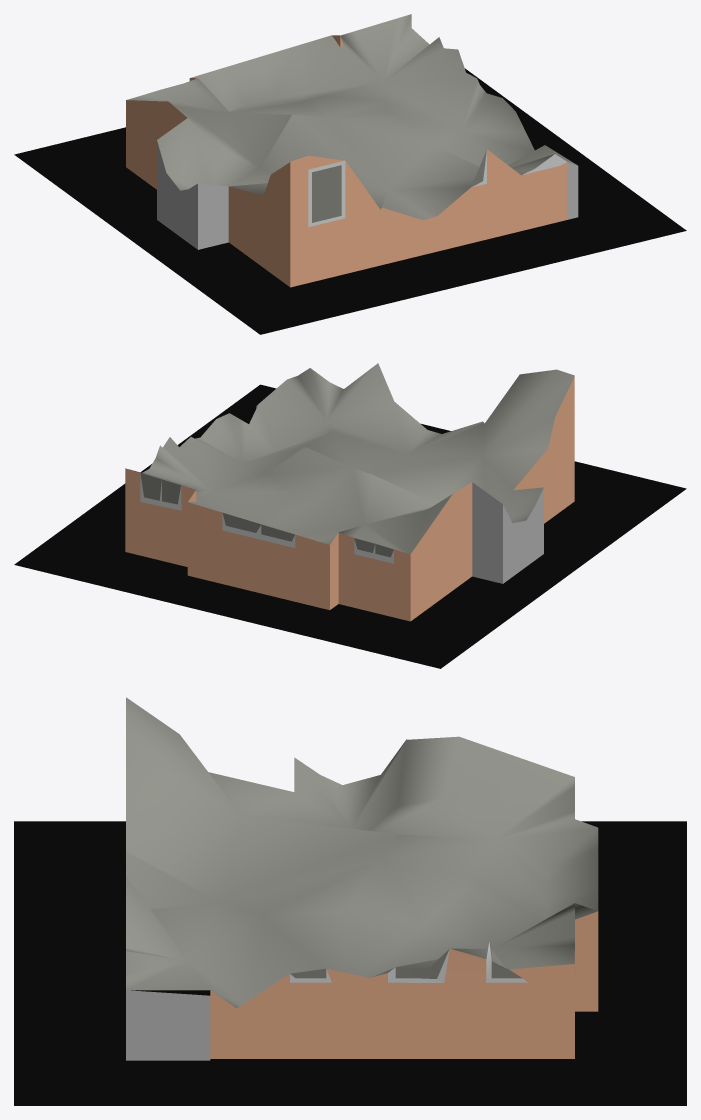
Rendered from Building_Destroyed.fbx.
3 renders of one model, top to bottom at view 1: azimuth 30°, elevation 25°; view 2: azimuth 150°, elevation 25°; view 3: azimuth 270°, elevation 25°, orthographic. The views are drawn at different scales.
Visible parts, largest first — view 1: Building_Destroyed; view 2: Building_Destroyed; view 3: Building_Destroyed.
Part boxes in pixels (bbox=[...]): Building_Destroyed: bbox=[14, 14, 686, 334]; Building_Destroyed: bbox=[14, 363, 686, 668]; Building_Destroyed: bbox=[14, 697, 686, 1105].
Size of the model in its own units: 1 by 0.2858 by 1.
2 materials, 1 textured.
